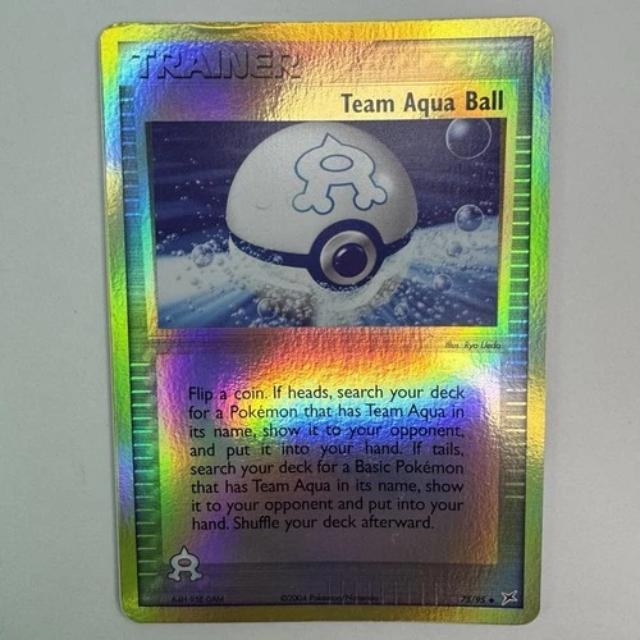Card: (93, 11, 557, 633)
Name: (336, 83, 511, 119)
